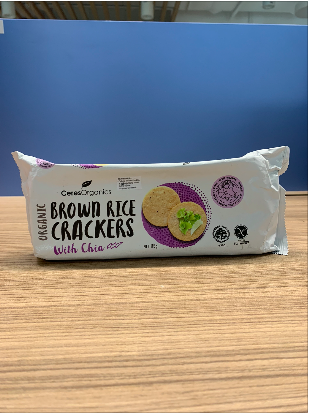Crackers_100-199g: (39, 164, 267, 255)
